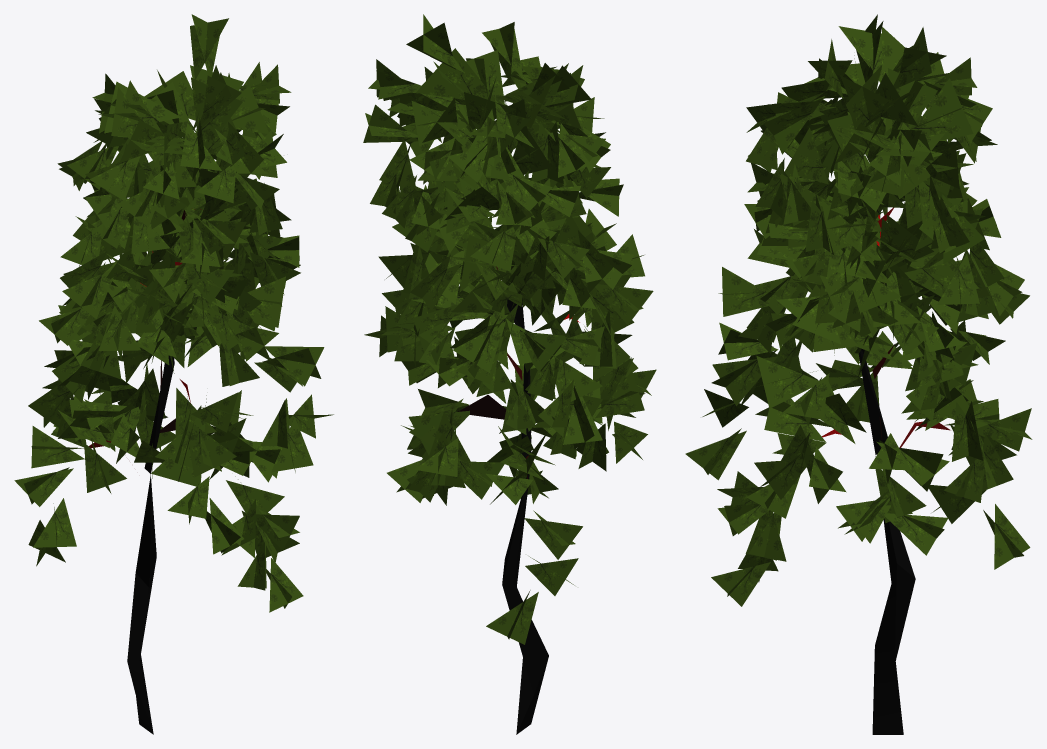
Rendered from birch 4 lod3.FBX.
3 views of the same model, side by side, from view 1: azimuth 30°, elevation 25°; view 2: azimuth 150°, elevation 25°; view 3: azimuth 270°, elevation 25° (orthographic). The views are drawn at different scales.
Parts seen in each view (by area): view 1: birch4_LOD3; view 2: birch4_LOD3; view 3: birch4_LOD3.
Part boxes in pixels (box(x1,y1,x2,y2)): birch4_LOD3: box(14, 14, 333, 734); birch4_LOD3: box(363, 14, 656, 734); birch4_LOD3: box(685, 14, 1032, 734).
Size of the model in its own units: 72680 by 177351 by 75497.
